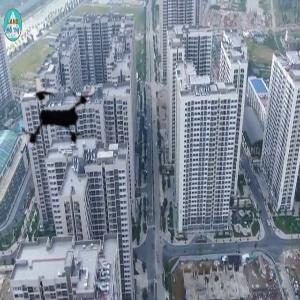drone: (11, 63, 105, 157)
